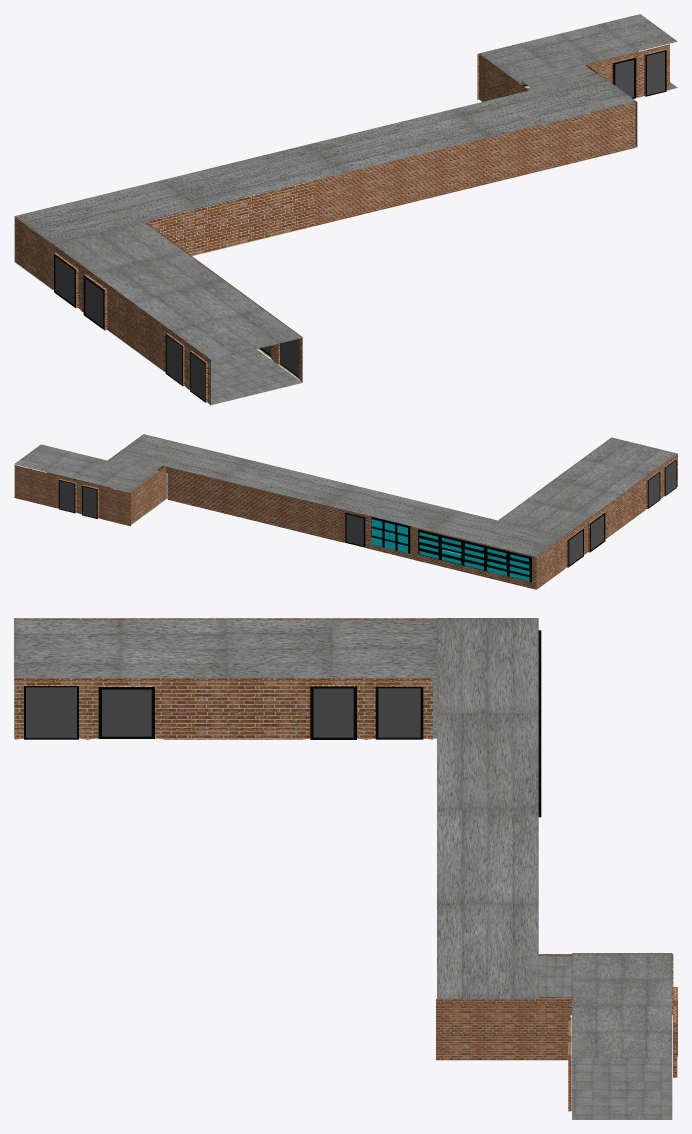
Rendered from pasillo4 (2).fbx.
3 views of the same model, one above another, from view 1: azimuth 30°, elevation 25°; view 2: azimuth 150°, elevation 25°; view 3: azimuth 270°, elevation 25° (orthographic). The views are drawn at different scales.
Visible parts, largest first — view 1: Plane.018; view 2: Plane.018; view 3: Plane.018.
Part boxes in pixels (<box>): Plane.018: <box>14,14,677,405</box>; Plane.018: <box>14,434,677,589</box>; Plane.018: <box>14,618,677,1119</box>.
Bounding box in the file's own units: 21999 × 1439 × 13965.
5 materials, 2 textured.
